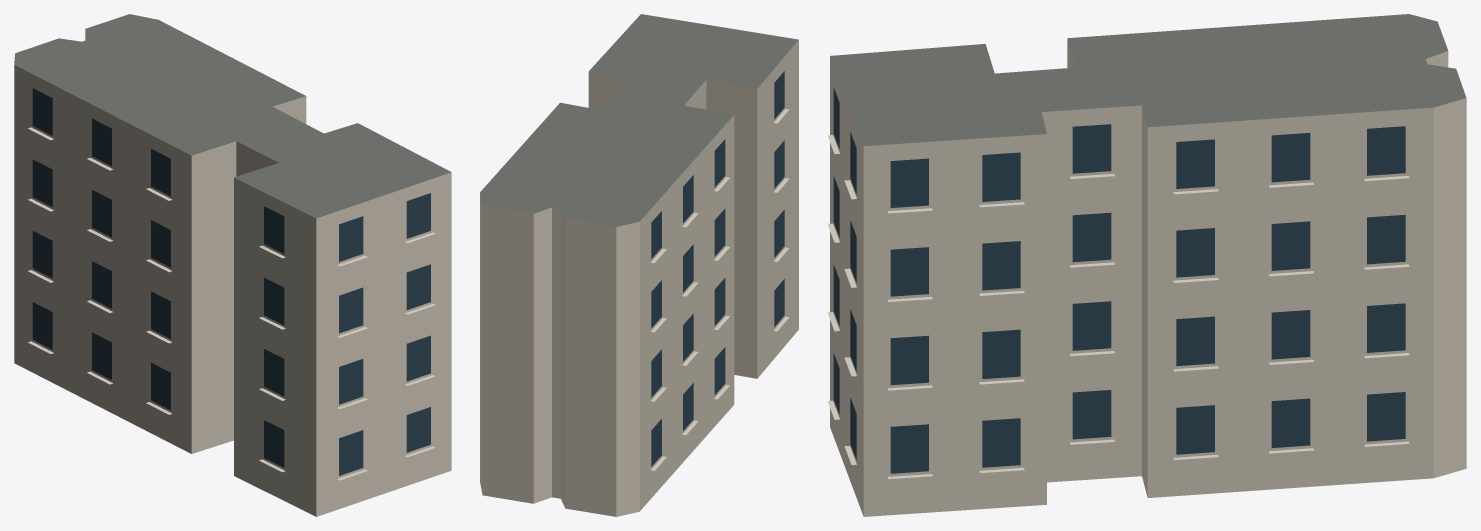
The picture shows the model from 3 angles, left to right: view 1: azimuth 30°, elevation 25°; view 2: azimuth 150°, elevation 25°; view 3: azimuth 270°, elevation 25°; orthographic projection. The views are drawn at different scales.
Visible parts, largest first — view 1: Footprint 0, Inferred window bays, Window sills; view 2: Footprint 0, Inferred window bays, Window sills; view 3: Footprint 0, Inferred window bays, Window sills.
Part boxes in pixels (x1,y1,x2,y2): Footprint 0: (14,14,451,516); Inferred window bays: (32,88,430,475); Window sills: (28,127,435,480); Footprint 0: (480,14,798,516); Inferred window bays: (651,71,784,466); Window sills: (650,109,789,470); Footprint 0: (830,14,1466,516); Inferred window bays: (833,87,1405,473); Window sills: (827,135,1409,479).
Size of the model in its own units: 10.12 by 13.02 by 20.34.
